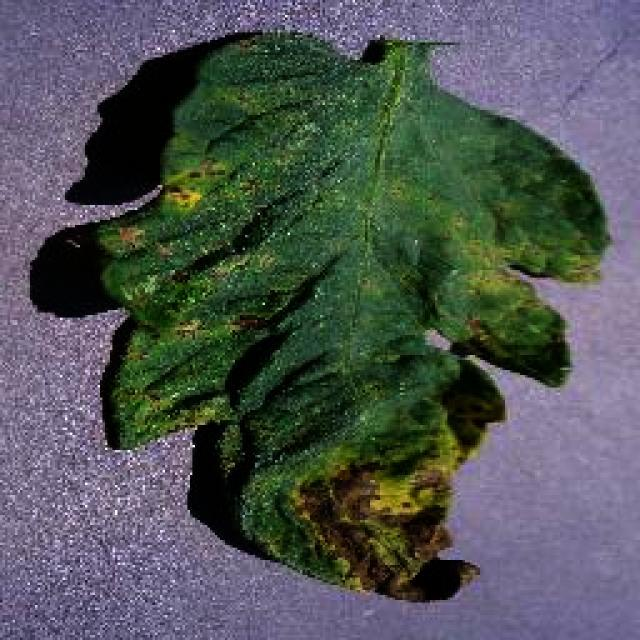Tomato Septoria spot leaf: (92, 28, 612, 610)
